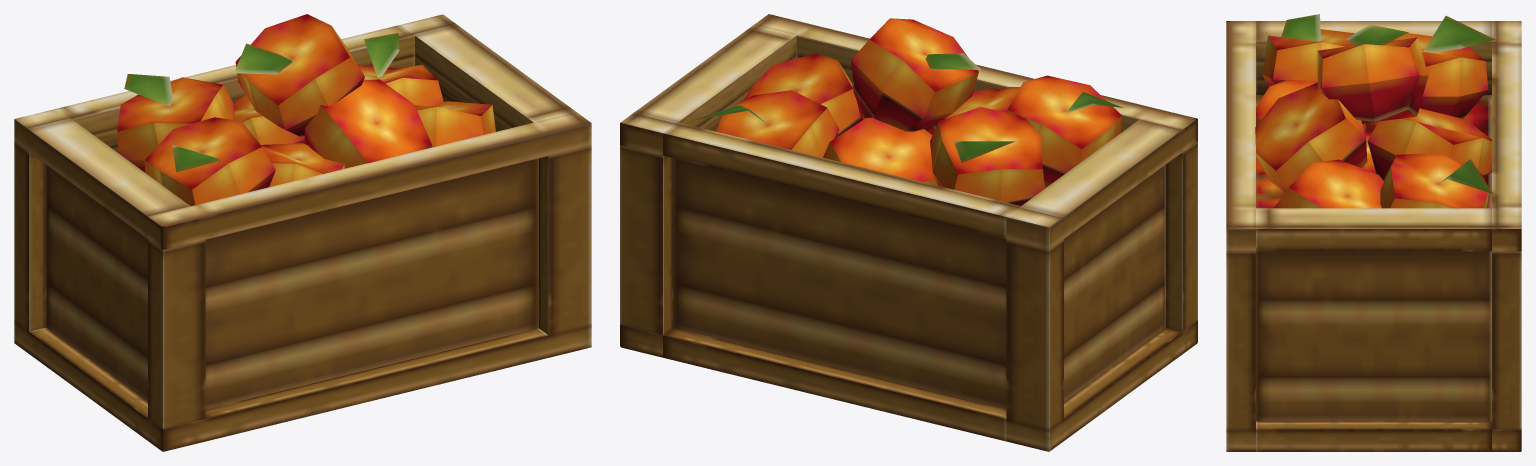
File: Inside_Poly_Crate_04.obj
3 views of the same model, side by side, from view 1: azimuth 30°, elevation 25°; view 2: azimuth 150°, elevation 25°; view 3: azimuth 270°, elevation 25° (orthographic).
Visible parts, largest first — view 1: Cube, Cube.001, Cube.003, Cube.006, Cube.002, Plane, Cube.005, Cube.009, Cube.004, Cube.008; view 2: Cube, Cube.001, Cube.002, Cube.003, Cube.004, Cube.008, Cube.005, Plane, Cube.009; view 3: Cube, Cube.006, Cube.001, Cube.008, Cube.004, Cube.005, Cube.002, Plane, Cube.003, Cube.009.
Boxes of the visible parts, x1=… form: Cube: x1=14, y1=14, x2=591, y2=451; Cube.001: x1=235, y1=14, x2=364, y2=136; Cube.003: x1=144, y1=117, x2=275, y2=206; Cube.006: x1=304, y1=79, x2=431, y2=168; Cube.002: x1=117, y1=77, x2=235, y2=172; Plane: x1=124, y1=33, x2=399, y2=172; Cube.005: x1=415, y1=101, x2=495, y2=147; Cube.009: x1=260, y1=143, x2=344, y2=209; Cube.004: x1=357, y1=64, x2=443, y2=106; Cube.008: x1=233, y1=94, x2=305, y2=144; Cube: x1=620, y1=14, x2=1197, y2=451; Cube.001: x1=851, y1=18, x2=978, y2=131; Cube.002: x1=930, y1=107, x2=1044, y2=205; Cube.003: x1=1006, y1=75, x2=1121, y2=187; Cube.004: x1=716, y1=90, x2=839, y2=157; Cube.008: x1=823, y1=117, x2=938, y2=185; Cube.005: x1=744, y1=53, x2=861, y2=136; Plane: x1=694, y1=53, x2=1123, y2=162; Cube.009: x1=945, y1=87, x2=1020, y2=118; Cube: x1=1226, y1=21, x2=1521, y2=451; Cube.006: x1=1255, y1=82, x2=1367, y2=191; Cube.001: x1=1317, y1=37, x2=1428, y2=123; Cube.008: x1=1367, y1=108, x2=1491, y2=180; Cube.004: x1=1380, y1=153, x2=1488, y2=208; Cube.005: x1=1274, y1=159, x2=1383, y2=208; Cube.002: x1=1393, y1=33, x2=1488, y2=118; Plane: x1=1281, y1=14, x2=1495, y2=193; Cube.003: x1=1262, y1=29, x2=1354, y2=87; Cube.009: x1=1256, y1=79, x2=1366, y2=132.
Bounding box in the file's own units: 1 × 0.7073 × 0.6.
1 material, 1 textured.
